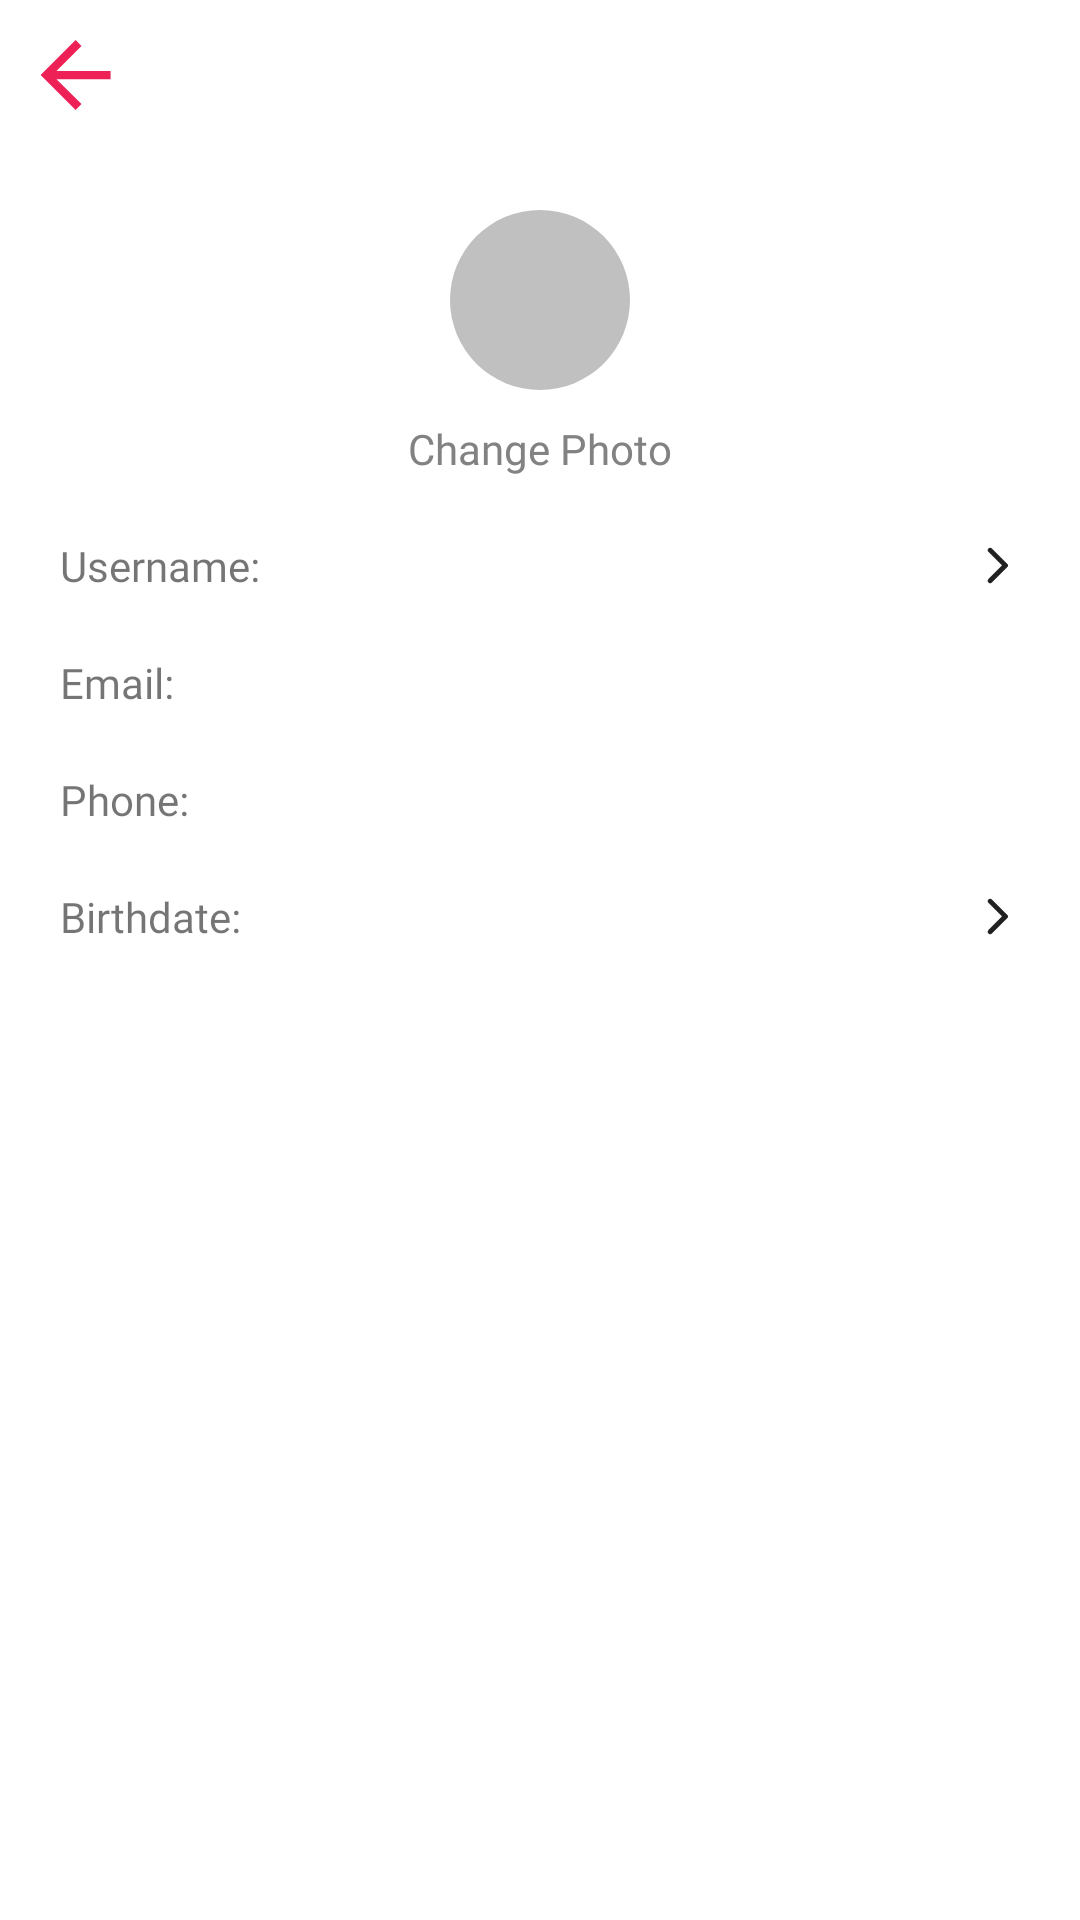

Named icons in this screenshot (1080×1920) and their centers, (x,y):
back: (76,75)
foward: (997,565), (997,916)
